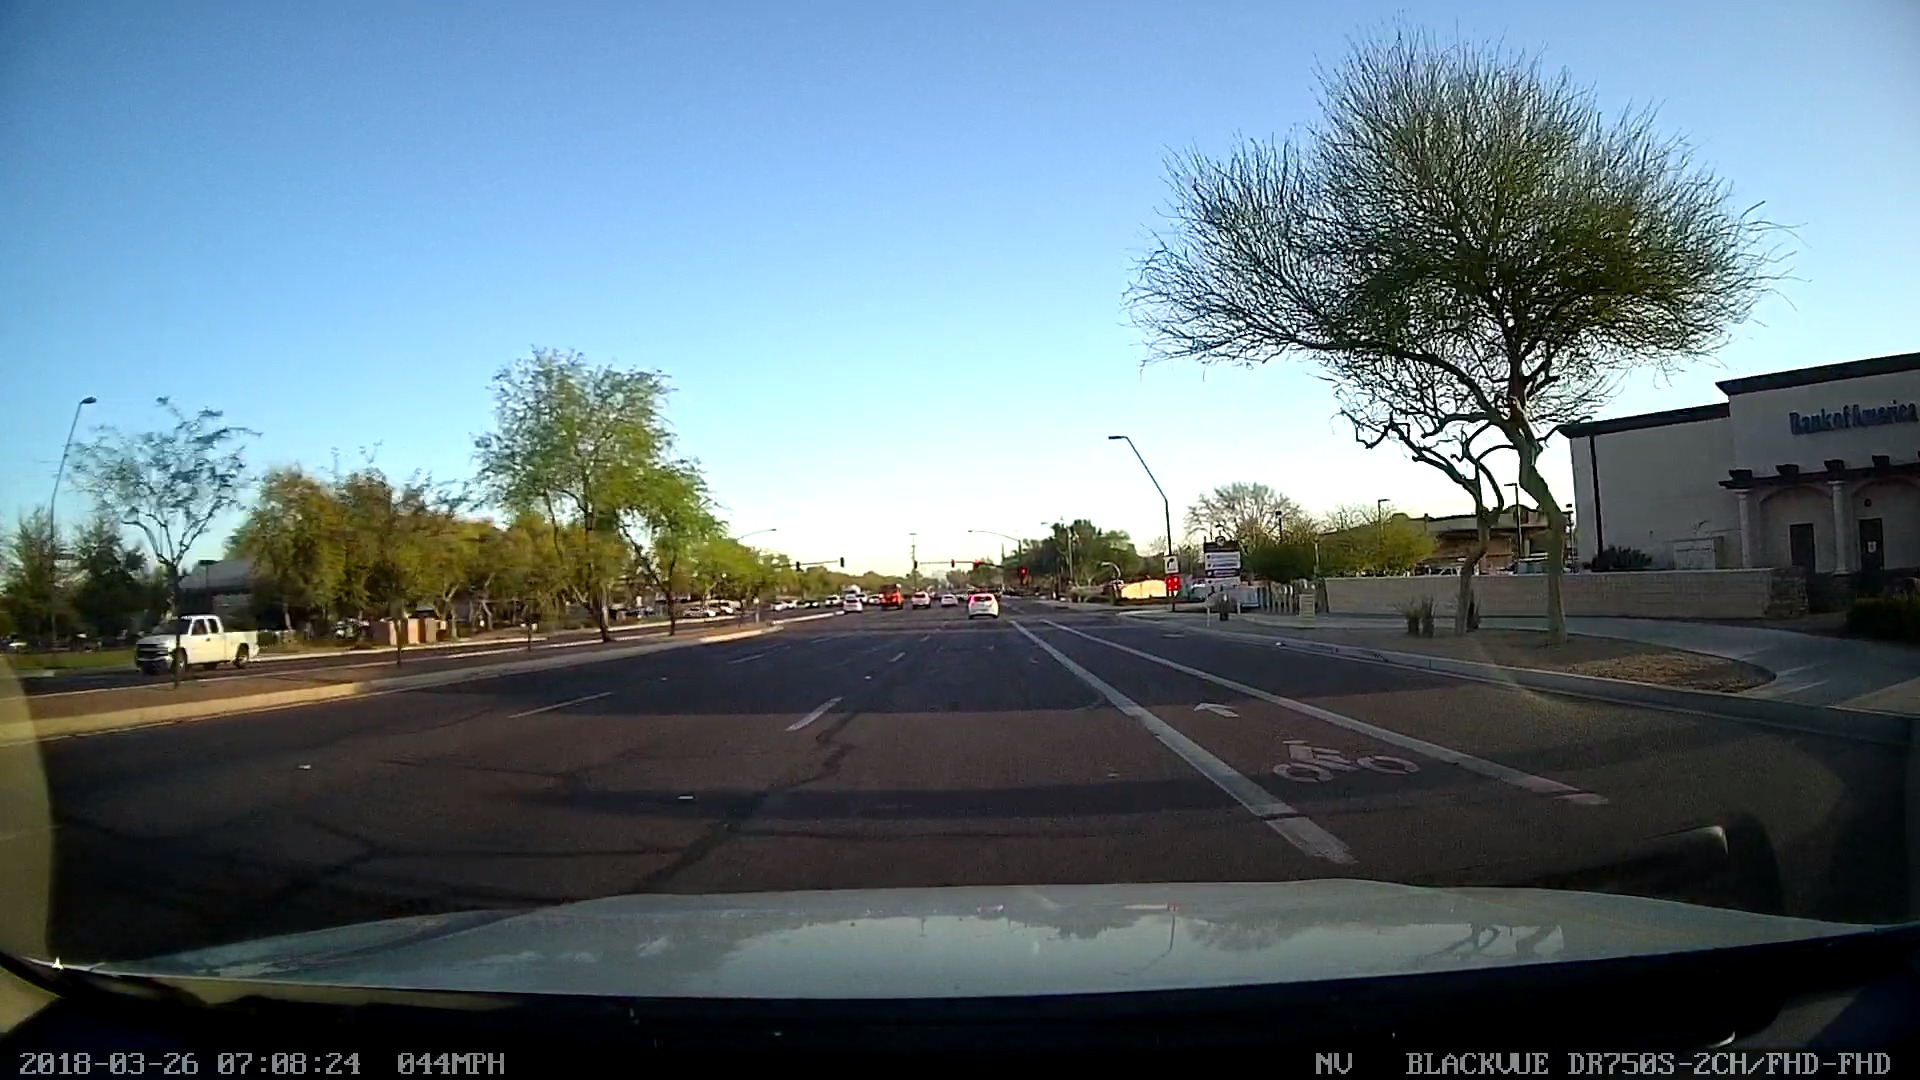vehicle: (117, 611, 258, 676), (952, 585, 1007, 626)
